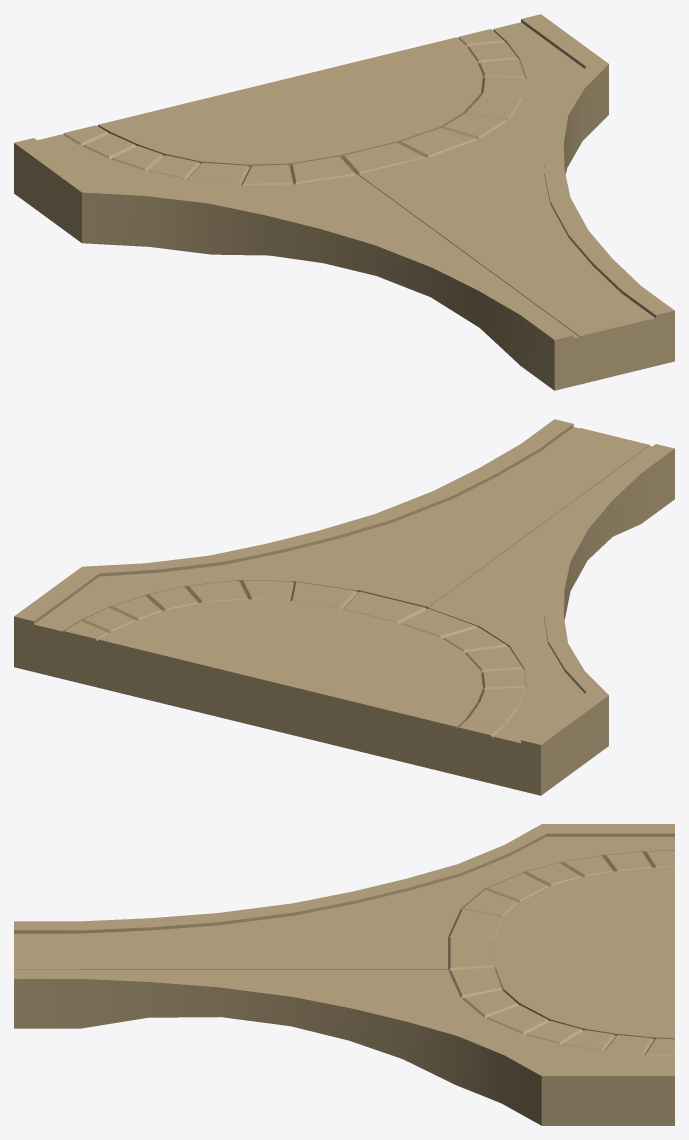
Rendered from Balconies-2.fbx.
3 views of the same model, one above another, from view 1: azimuth 30°, elevation 25°; view 2: azimuth 150°, elevation 25°; view 3: azimuth 270°, elevation 25° (orthographic). The views are drawn at different scales.
Visible parts, largest first — view 1: Balconies-2; view 2: Balconies-2; view 3: Balconies-2.
Part boxes in pixels (x1,y1,x2,y2): Balconies-2: (14, 14, 674, 390); Balconies-2: (14, 419, 674, 795); Balconies-2: (14, 824, 674, 1125).
Bounding box in the file's own units: 886 × 81.53 × 982.
